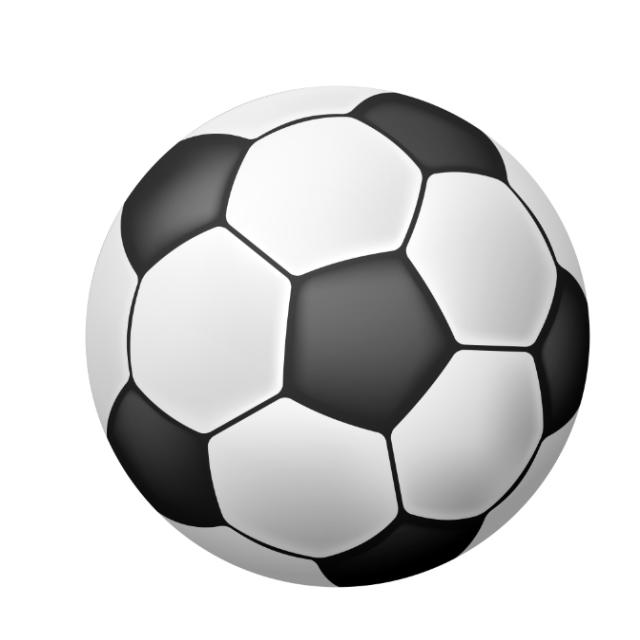football: (71, 46, 606, 609)
